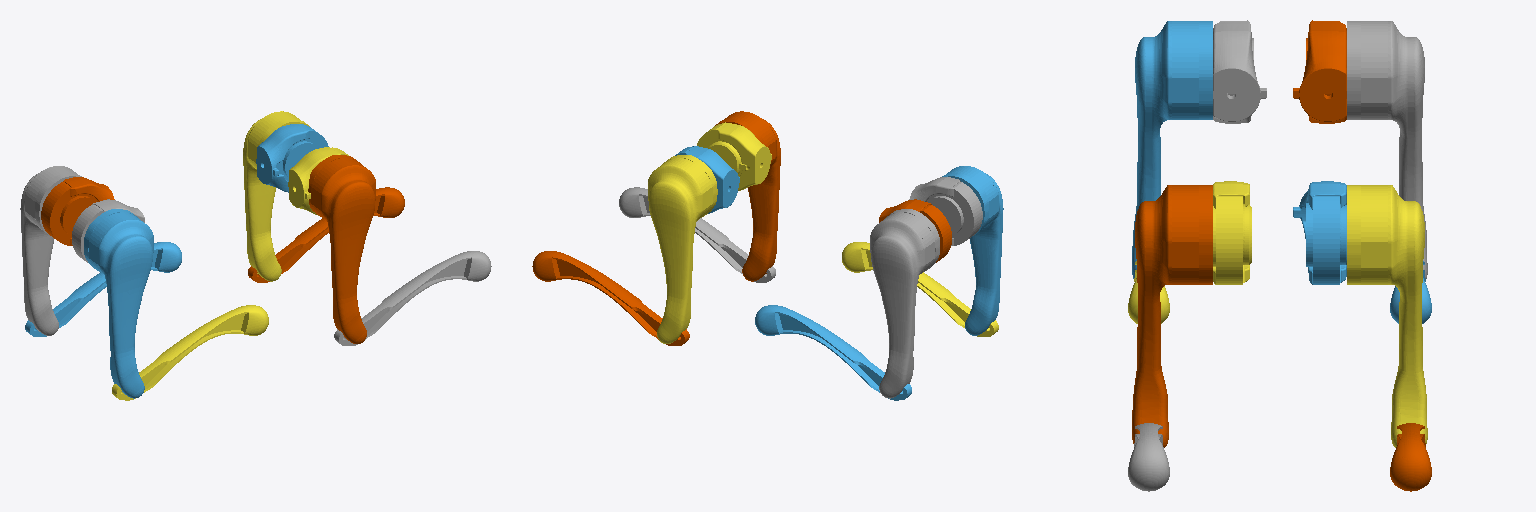
The robot description file, URDF, robot "converted_robot":
<?xml version="1.0" ?>
<robot name="converted_robot">
   <!--generated with mjcf_urdf_simple_converter (https://github.com/Yasu31/mjcf_urdf_simple_converter)-->
   <link name="world">
      <inertial>
         <origin xyz="0.0 0.0 0.0" rpy="0.0 0.0 0.0"/>
         <mass value="0.0"/>
         <inertia ixx="0.0" iyy="0.0" izz="0.0" ixy="0" ixz="0" iyz="0"/>
      </inertial>
   </link>
   <link name="trunk">
      <inertial>
         <origin xyz="0.0223 0.002 -0.0005" rpy="-0.7157650668950082 -1.563674082688072 -2.4208388005488306"/>
         <mass value="5.204"/>
         <inertia ixx="0.0716565" iyy="0.0630105" izz="0.0168101" ixy="0" ixz="0" iyz="0"/>
      </inertial>
      <visual name="trunk">
         <origin xyz="0.06456613160123967 -1.789318564245306e-07 0.0008886185725857437" rpy="3.63527257341012e-06 -1.5565590929761923 -3.1415926535897896"/>
         <geometry>
            <mesh filename="meshes/converted_trunk_333333ff.obj"/>
         </geometry>
      </visual>
   </link>
   <link name="joint_0_jointbody">
      <inertial>
         <origin xyz="0.0 0.0 0.0" rpy="0.0 0.0 0.0"/>
         <mass value="0.001"/>
         <inertia ixx="1e-09" iyy="1e-09" izz="1e-09" ixy="0" ixz="0" iyz="0"/>
      </inertial>
   </link>
   <joint type="fixed" name="joint_0">
      <parent link="world"/>
      <child link="joint_0_jointbody"/>
      <origin xyz="0.0 0.0 0.445" rpy="0.0 0.0 0.0"/>
   </joint>
   <joint type="fixed" name="joint_0_offset">
      <parent link="joint_0_jointbody"/>
      <child link="trunk"/>
      <origin xyz="-0.0 -0.0 -0.0" rpy="0.0 0.0 0.0"/>
   </joint>
   <link name="FR_hip">
      <inertial>
         <origin xyz="-0.0049166 0.00762615 -8.865e-05" rpy="1.5896406315651703 0.005719851876219595 1.527252657950546"/>
         <mass value="0.68"/>
         <inertia ixx="0.000734064" iyy="0.000468438" izz="0.000398719" ixy="0" ixz="0" iyz="0"/>
      </inertial>
      <visual name="hip">
         <origin xyz="-0.012875065044530915 -0.0017777801861647605 -1.9602939267989975e-07" rpy="9.425661877782154e-05 6.971960134993793e-06 1.5793713384552697"/>
         <geometry>
            <mesh filename="meshes/converted_hip_333333ff.obj"/>
         </geometry>
      </visual>
   </link>
   <link name="FR_hip_joint_jointbody">
      <inertial>
         <origin xyz="0.0 0.0 0.0" rpy="0.0 0.0 0.0"/>
         <mass value="0.001"/>
         <inertia ixx="1e-09" iyy="1e-09" izz="1e-09" ixy="0" ixz="0" iyz="0"/>
      </inertial>
   </link>
   <joint type="revolute" name="FR_hip_joint">
      <parent link="trunk"/>
      <child link="FR_hip_joint_jointbody"/>
      <origin xyz="0.1881 -0.04675 0.0" rpy="0.0 0.0 0.0"/>
      <axis xyz="1.0 0.0 0.0"/>
      <limit lower="-0.863" upper="0.863" effort="100" velocity="100"/>
   </joint>
   <joint type="fixed" name="FR_hip_joint_offset">
      <parent link="FR_hip_joint_jointbody"/>
      <child link="FR_hip"/>
      <origin xyz="-0.0 -0.0 -0.0" rpy="0.0 0.0 0.0"/>
   </joint>
   <link name="FR_thigh">
      <inertial>
         <origin xyz="-0.00304722 0.019315 -0.0305004" rpy="0.08218670176332254 0.14265758648192328 1.7200479717891826"/>
         <mass value="1.009"/>
         <inertia ixx="0.00478717" iyy="0.00460903" izz="0.000709268" ixy="0" ixz="0" iyz="0"/>
      </inertial>
      <visual name="thigh_mirror">
         <origin xyz="-0.004290462154240981 0.02209062984345433 -0.04642721992388556" rpy="0.11965076294825028 0.15897046112923485 1.92483276809982"/>
         <geometry>
            <mesh filename="meshes/converted_thigh_mirror_333333ff.obj"/>
         </geometry>
      </visual>
   </link>
   <link name="FR_thigh_joint_jointbody">
      <inertial>
         <origin xyz="0.0 0.0 0.0" rpy="0.0 0.0 0.0"/>
         <mass value="0.001"/>
         <inertia ixx="1e-09" iyy="1e-09" izz="1e-09" ixy="0" ixz="0" iyz="0"/>
      </inertial>
   </link>
   <joint type="revolute" name="FR_thigh_joint">
      <parent link="FR_hip"/>
      <child link="FR_thigh_joint_jointbody"/>
      <origin xyz="0.0 -0.08 0.0" rpy="0.0 0.0 0.0"/>
      <axis xyz="0.0 1.0 0.0"/>
      <limit lower="-0.686" upper="4.501" effort="100" velocity="100"/>
   </joint>
   <joint type="fixed" name="FR_thigh_joint_offset">
      <parent link="FR_thigh_joint_jointbody"/>
      <child link="FR_thigh"/>
      <origin xyz="-0.0 -0.0 -0.0" rpy="0.0 0.0 0.0"/>
   </joint>
   <link name="FR_calf">
      <inertial>
         <origin xyz="0.00429862 0.000976676 -0.146197" rpy="0.012328893507235983 0.0019001123612731874 1.6151424907177612"/>
         <mass value="0.195862"/>
         <inertia ixx="0.00149767" iyy="0.00148468" izz="3.58427e-05" ixy="0" ixz="0" iyz="0"/>
      </inertial>
      <visual name="calf">
         <origin xyz="0.006786841015610575 -9.169538124848121e-07 -0.12472491620032147" rpy="-0.012432181440358736 -1.3824013436192217e-05 1.5707964986663947"/>
         <geometry>
            <mesh filename="meshes/converted_calf_333333ff.obj"/>
         </geometry>
      </visual>
   </link>
   <link name="FR_calf_joint_jointbody">
      <inertial>
         <origin xyz="0.0 0.0 0.0" rpy="0.0 0.0 0.0"/>
         <mass value="0.001"/>
         <inertia ixx="1e-09" iyy="1e-09" izz="1e-09" ixy="0" ixz="0" iyz="0"/>
      </inertial>
   </link>
   <joint type="revolute" name="FR_calf_joint">
      <parent link="FR_thigh"/>
      <child link="FR_calf_joint_jointbody"/>
      <origin xyz="0.0 0.0 -0.213" rpy="0.0 0.0 0.0"/>
      <axis xyz="0.0 1.0 0.0"/>
      <limit lower="-2.818" upper="-0.888" effort="100" velocity="100"/>
   </joint>
   <joint type="fixed" name="FR_calf_joint_offset">
      <parent link="FR_calf_joint_jointbody"/>
      <child link="FR_calf"/>
      <origin xyz="-0.0 -0.0 -0.0" rpy="0.0 0.0 0.0"/>
   </joint>
   <link name="FL_hip">
      <inertial>
         <origin xyz="-0.0049166 -0.00762615 -8.865e-05" rpy="1.5896406315651703 -0.005719851876219373 1.614339995639247"/>
         <mass value="0.68"/>
         <inertia ixx="0.000734064" iyy="0.000468438" izz="0.000398719" ixy="0" ixz="0" iyz="0"/>
      </inertial>
      <visual name="hip">
         <origin xyz="-0.012875065044530915 -0.0017777801861647605 -1.9602939267989975e-07" rpy="9.425661877782154e-05 6.971960134993793e-06 1.5793713384552697"/>
         <geometry>
            <mesh filename="meshes/converted_hip_333333ff.obj"/>
         </geometry>
      </visual>
   </link>
   <link name="FL_hip_joint_jointbody">
      <inertial>
         <origin xyz="0.0 0.0 0.0" rpy="0.0 0.0 0.0"/>
         <mass value="0.001"/>
         <inertia ixx="1e-09" iyy="1e-09" izz="1e-09" ixy="0" ixz="0" iyz="0"/>
      </inertial>
   </link>
   <joint type="revolute" name="FL_hip_joint">
      <parent link="trunk"/>
      <child link="FL_hip_joint_jointbody"/>
      <origin xyz="0.1881 0.04675 0.0" rpy="0.0 0.0 0.0"/>
      <axis xyz="1.0 0.0 0.0"/>
      <limit lower="-0.863" upper="0.863" effort="100" velocity="100"/>
   </joint>
   <joint type="fixed" name="FL_hip_joint_offset">
      <parent link="FL_hip_joint_jointbody"/>
      <child link="FL_hip"/>
      <origin xyz="-0.0 -0.0 -0.0" rpy="0.0 0.0 0.0"/>
   </joint>
   <link name="FL_thigh">
      <inertial>
         <origin xyz="-0.00304722 -0.019315 -0.0305004" rpy="0.08218670176332254 -0.14265758648192306 1.4215446818006106"/>
         <mass value="1.009"/>
         <inertia ixx="0.00478717" iyy="0.00460903" izz="0.000709268" ixy="0" ixz="0" iyz="0"/>
      </inertial>
      <visual name="thigh">
         <origin xyz="-0.0035736846836778753 -0.023611648739198243 -0.041030376815283584" rpy="0.10192728856062827 -0.1520058544633227 1.2544775621751492"/>
         <geometry>
            <mesh filename="meshes/converted_thigh_333333ff.obj"/>
         </geometry>
      </visual>
   </link>
   <link name="FL_thigh_joint_jointbody">
      <inertial>
         <origin xyz="0.0 0.0 0.0" rpy="0.0 0.0 0.0"/>
         <mass value="0.001"/>
         <inertia ixx="1e-09" iyy="1e-09" izz="1e-09" ixy="0" ixz="0" iyz="0"/>
      </inertial>
   </link>
   <joint type="revolute" name="FL_thigh_joint">
      <parent link="FL_hip"/>
      <child link="FL_thigh_joint_jointbody"/>
      <origin xyz="0.0 0.08 0.0" rpy="0.0 0.0 0.0"/>
      <axis xyz="0.0 1.0 0.0"/>
      <limit lower="-0.686" upper="4.501" effort="100" velocity="100"/>
   </joint>
   <joint type="fixed" name="FL_thigh_joint_offset">
      <parent link="FL_thigh_joint_jointbody"/>
      <child link="FL_thigh"/>
      <origin xyz="-0.0 -0.0 -0.0" rpy="0.0 0.0 0.0"/>
   </joint>
   <link name="FL_calf">
      <inertial>
         <origin xyz="0.00429862 0.000976676 -0.146197" rpy="0.012328893507235983 0.0019001123612731874 1.6151424907177612"/>
         <mass value="0.195862"/>
         <inertia ixx="0.00149767" iyy="0.00148468" izz="3.58427e-05" ixy="0" ixz="0" iyz="0"/>
      </inertial>
      <visual name="calf">
         <origin xyz="0.006786841015610575 -9.169538124848121e-07 -0.12472491620032147" rpy="-0.012432181440358736 -1.3824013436192217e-05 1.5707964986663947"/>
         <geometry>
            <mesh filename="meshes/converted_calf_333333ff.obj"/>
         </geometry>
      </visual>
   </link>
   <link name="FL_calf_joint_jointbody">
      <inertial>
         <origin xyz="0.0 0.0 0.0" rpy="0.0 0.0 0.0"/>
         <mass value="0.001"/>
         <inertia ixx="1e-09" iyy="1e-09" izz="1e-09" ixy="0" ixz="0" iyz="0"/>
      </inertial>
   </link>
   <joint type="revolute" name="FL_calf_joint">
      <parent link="FL_thigh"/>
      <child link="FL_calf_joint_jointbody"/>
      <origin xyz="0.0 0.0 -0.213" rpy="0.0 0.0 0.0"/>
      <axis xyz="0.0 1.0 0.0"/>
      <limit lower="-2.818" upper="-0.888" effort="100" velocity="100"/>
   </joint>
   <joint type="fixed" name="FL_calf_joint_offset">
      <parent link="FL_calf_joint_jointbody"/>
      <child link="FL_calf"/>
      <origin xyz="-0.0 -0.0 -0.0" rpy="0.0 0.0 0.0"/>
   </joint>
   <link name="RR_hip">
      <inertial>
         <origin xyz="0.0049166 0.00762615 -8.865e-05" rpy="1.5519520220246228 0.005719851876219817 1.614339995639247"/>
         <mass value="0.68"/>
         <inertia ixx="0.000734064" iyy="0.000468438" izz="0.000398719" ixy="0" ixz="0" iyz="0"/>
      </inertial>
      <visual name="hip">
         <origin xyz="0.012875065044530915 0.0017777801861647605 -1.9602939267989975e-07" rpy="9.425661877782154e-05 6.971960134993793e-06 -1.5622213151345234"/>
         <geometry>
            <mesh filename="meshes/converted_hip_333333ff.obj"/>
         </geometry>
      </visual>
   </link>
   <link name="RR_hip_joint_jointbody">
      <inertial>
         <origin xyz="0.0 0.0 0.0" rpy="0.0 0.0 0.0"/>
         <mass value="0.001"/>
         <inertia ixx="1e-09" iyy="1e-09" izz="1e-09" ixy="0" ixz="0" iyz="0"/>
      </inertial>
   </link>
   <joint type="revolute" name="RR_hip_joint">
      <parent link="trunk"/>
      <child link="RR_hip_joint_jointbody"/>
      <origin xyz="-0.1881 -0.04675 0.0" rpy="0.0 0.0 0.0"/>
      <axis xyz="1.0 0.0 0.0"/>
      <limit lower="-0.863" upper="0.863" effort="100" velocity="100"/>
   </joint>
   <joint type="fixed" name="RR_hip_joint_offset">
      <parent link="RR_hip_joint_jointbody"/>
      <child link="RR_hip"/>
      <origin xyz="-0.0 -0.0 -0.0" rpy="0.0 0.0 0.0"/>
   </joint>
   <link name="RR_thigh">
      <inertial>
         <origin xyz="-0.00304722 0.019315 -0.0305004" rpy="0.08218670176332254 0.14265758648192328 1.7200479717891826"/>
         <mass value="1.009"/>
         <inertia ixx="0.00478717" iyy="0.00460903" izz="0.000709268" ixy="0" ixz="0" iyz="0"/>
      </inertial>
      <visual name="thigh_mirror">
         <origin xyz="-0.004290462154240981 0.02209062984345433 -0.04642721992388556" rpy="0.11965076294825028 0.15897046112923485 1.92483276809982"/>
         <geometry>
            <mesh filename="meshes/converted_thigh_mirror_333333ff.obj"/>
         </geometry>
      </visual>
   </link>
   <link name="RR_thigh_joint_jointbody">
      <inertial>
         <origin xyz="0.0 0.0 0.0" rpy="0.0 0.0 0.0"/>
         <mass value="0.001"/>
         <inertia ixx="1e-09" iyy="1e-09" izz="1e-09" ixy="0" ixz="0" iyz="0"/>
      </inertial>
   </link>
   <joint type="revolute" name="RR_thigh_joint">
      <parent link="RR_hip"/>
      <child link="RR_thigh_joint_jointbody"/>
      <origin xyz="0.0 -0.08 0.0" rpy="0.0 0.0 0.0"/>
      <axis xyz="0.0 1.0 0.0"/>
      <limit lower="-0.686" upper="4.501" effort="100" velocity="100"/>
   </joint>
   <joint type="fixed" name="RR_thigh_joint_offset">
      <parent link="RR_thigh_joint_jointbody"/>
      <child link="RR_thigh"/>
      <origin xyz="-0.0 -0.0 -0.0" rpy="0.0 0.0 0.0"/>
   </joint>
   <link name="RR_calf">
      <inertial>
         <origin xyz="0.00429862 0.000976676 -0.146197" rpy="0.012328893507235983 0.0019001123612731874 1.6151424907177612"/>
         <mass value="0.195862"/>
         <inertia ixx="0.00149767" iyy="0.00148468" izz="3.58427e-05" ixy="0" ixz="0" iyz="0"/>
      </inertial>
      <visual name="calf">
         <origin xyz="0.006786841015610575 -9.169538124848121e-07 -0.12472491620032147" rpy="-0.012432181440358736 -1.3824013436192217e-05 1.5707964986663947"/>
         <geometry>
            <mesh filename="meshes/converted_calf_333333ff.obj"/>
         </geometry>
      </visual>
   </link>
   <link name="RR_calf_joint_jointbody">
      <inertial>
         <origin xyz="0.0 0.0 0.0" rpy="0.0 0.0 0.0"/>
         <mass value="0.001"/>
         <inertia ixx="1e-09" iyy="1e-09" izz="1e-09" ixy="0" ixz="0" iyz="0"/>
      </inertial>
   </link>
   <joint type="revolute" name="RR_calf_joint">
      <parent link="RR_thigh"/>
      <child link="RR_calf_joint_jointbody"/>
      <origin xyz="0.0 0.0 -0.213" rpy="0.0 0.0 0.0"/>
      <axis xyz="0.0 1.0 0.0"/>
      <limit lower="-2.818" upper="-0.888" effort="100" velocity="100"/>
   </joint>
   <joint type="fixed" name="RR_calf_joint_offset">
      <parent link="RR_calf_joint_jointbody"/>
      <child link="RR_calf"/>
      <origin xyz="-0.0 -0.0 -0.0" rpy="0.0 0.0 0.0"/>
   </joint>
   <link name="RL_hip">
      <inertial>
         <origin xyz="0.0049166 -0.00762615 -8.865e-05" rpy="1.551952022024623 -0.005719851876219373 1.5272526579505463"/>
         <mass value="0.68"/>
         <inertia ixx="0.000734064" iyy="0.000468438" izz="0.000398719" ixy="0" ixz="0" iyz="0"/>
      </inertial>
      <visual name="hip">
         <origin xyz="0.012875065044530915 -0.0017777801861647605 1.9602939267989975e-07" rpy="-3.141498396971015 -6.971960134993793e-06 1.5622213151345234"/>
         <geometry>
            <mesh filename="meshes/converted_hip_333333ff.obj"/>
         </geometry>
      </visual>
   </link>
   <link name="RL_hip_joint_jointbody">
      <inertial>
         <origin xyz="0.0 0.0 0.0" rpy="0.0 0.0 0.0"/>
         <mass value="0.001"/>
         <inertia ixx="1e-09" iyy="1e-09" izz="1e-09" ixy="0" ixz="0" iyz="0"/>
      </inertial>
   </link>
   <joint type="revolute" name="RL_hip_joint">
      <parent link="trunk"/>
      <child link="RL_hip_joint_jointbody"/>
      <origin xyz="-0.1881 0.04675 0.0" rpy="0.0 0.0 0.0"/>
      <axis xyz="1.0 0.0 0.0"/>
      <limit lower="-0.863" upper="0.863" effort="100" velocity="100"/>
   </joint>
   <joint type="fixed" name="RL_hip_joint_offset">
      <parent link="RL_hip_joint_jointbody"/>
      <child link="RL_hip"/>
      <origin xyz="-0.0 -0.0 -0.0" rpy="0.0 0.0 0.0"/>
   </joint>
   <link name="RL_thigh">
      <inertial>
         <origin xyz="-0.00304722 -0.019315 -0.0305004" rpy="0.08218670176332254 -0.14265758648192306 1.4215446818006106"/>
         <mass value="1.009"/>
         <inertia ixx="0.00478717" iyy="0.00460903" izz="0.000709268" ixy="0" ixz="0" iyz="0"/>
      </inertial>
      <visual name="thigh">
         <origin xyz="-0.0035736846836778753 -0.023611648739198243 -0.041030376815283584" rpy="0.10192728856062827 -0.1520058544633227 1.2544775621751492"/>
         <geometry>
            <mesh filename="meshes/converted_thigh_333333ff.obj"/>
         </geometry>
      </visual>
   </link>
   <link name="RL_thigh_joint_jointbody">
      <inertial>
         <origin xyz="0.0 0.0 0.0" rpy="0.0 0.0 0.0"/>
         <mass value="0.001"/>
         <inertia ixx="1e-09" iyy="1e-09" izz="1e-09" ixy="0" ixz="0" iyz="0"/>
      </inertial>
   </link>
   <joint type="revolute" name="RL_thigh_joint">
      <parent link="RL_hip"/>
      <child link="RL_thigh_joint_jointbody"/>
      <origin xyz="0.0 0.08 0.0" rpy="0.0 0.0 0.0"/>
      <axis xyz="0.0 1.0 0.0"/>
      <limit lower="-0.686" upper="4.501" effort="100" velocity="100"/>
   </joint>
   <joint type="fixed" name="RL_thigh_joint_offset">
      <parent link="RL_thigh_joint_jointbody"/>
      <child link="RL_thigh"/>
      <origin xyz="-0.0 -0.0 -0.0" rpy="0.0 0.0 0.0"/>
   </joint>
   <link name="RL_calf">
      <inertial>
         <origin xyz="0.00429862 0.000976676 -0.146197" rpy="0.012328893507235983 0.0019001123612731874 1.6151424907177612"/>
         <mass value="0.195862"/>
         <inertia ixx="0.00149767" iyy="0.00148468" izz="3.58427e-05" ixy="0" ixz="0" iyz="0"/>
      </inertial>
      <visual name="calf">
         <origin xyz="0.006786841015610575 -9.169538124848121e-07 -0.12472491620032147" rpy="-0.012432181440358736 -1.3824013436192217e-05 1.5707964986663947"/>
         <geometry>
            <mesh filename="meshes/converted_calf_333333ff.obj"/>
         </geometry>
      </visual>
   </link>
   <link name="RL_calf_joint_jointbody">
      <inertial>
         <origin xyz="0.0 0.0 0.0" rpy="0.0 0.0 0.0"/>
         <mass value="0.001"/>
         <inertia ixx="1e-09" iyy="1e-09" izz="1e-09" ixy="0" ixz="0" iyz="0"/>
      </inertial>
   </link>
   <joint type="revolute" name="RL_calf_joint">
      <parent link="RL_thigh"/>
      <child link="RL_calf_joint_jointbody"/>
      <origin xyz="0.0 0.0 -0.213" rpy="0.0 0.0 0.0"/>
      <axis xyz="0.0 1.0 0.0"/>
      <limit lower="-2.818" upper="-0.888" effort="100" velocity="100"/>
   </joint>
   <joint type="fixed" name="RL_calf_joint_offset">
      <parent link="RL_calf_joint_jointbody"/>
      <child link="RL_calf"/>
      <origin xyz="-0.0 -0.0 -0.0" rpy="0.0 0.0 0.0"/>
   </joint>
</robot>

--- Facts derived from the render (not from the file) ---
Views: 3 orthographic renders of the robot side by side, from view 1: azimuth 30°, elevation 25°; view 2: azimuth 150°, elevation 25°; view 3: azimuth 270°, elevation 25°.
Robot: converted_robot — 27 links, 26 joints (12 revolute, 14 fixed); root link world; default pose: all joints at 0 but 4 set to mid-range because 0 is outside their limits (FR_calf_joint = -1.85, FL_calf_joint = -1.85, RR_calf_joint = -1.85, RL_calf_joint = -1.85).
Visible links, largest first — view 1: RR_thigh, FR_thigh, RL_thigh, FL_thigh, RR_calf, FR_calf, FL_hip, RL_hip, FL_calf, RL_calf, FR_hip, RR_hip; view 2: RL_thigh, FL_thigh, RR_thigh, FR_thigh, RL_calf, FL_calf, FR_hip, RR_hip, FR_calf, RR_calf, FL_hip, RL_hip; view 3: FR_thigh, FL_thigh, RR_thigh, RL_thigh, FL_hip, RR_hip, RL_hip, FR_hip, FR_calf, FL_calf, RR_calf, RL_calf.
Boxes of the visible links, x1,y1,x2,y2 form: RR_thigh: (84,209,153,398); FR_thigh: (308,155,375,343); RL_thigh: (20,166,81,335); FL_thigh: (243,111,309,281); RR_calf: (112,305,268,400); FR_calf: (334,251,491,345); FL_hip: (256,124,328,192); RL_hip: (41,177,114,245); FL_calf: (248,187,404,282); RL_calf: (25,242,181,336); FR_hip: (288,147,348,215); RR_hip: (72,199,144,262); RL_thigh: (870,209,939,398); FL_thigh: (648,155,717,343); RR_thigh: (942,166,1003,335); FR_thigh: (715,111,780,281); RL_calf: (755,305,911,400); FL_calf: (532,251,689,345); FR_hip: (697,122,771,190); RR_hip: (909,177,982,245); FR_calf: (619,187,775,282); RR_calf: (842,242,998,336); FL_hip: (675,146,739,213); RL_hip: (879,199,951,262); FR_thigh: (1132,185,1212,447); FL_thigh: (1347,185,1427,447); RR_thigh: (1132,21,1212,278); RL_thigh: (1347,21,1427,278); FL_hip: (1293,181,1346,284); RR_hip: (1213,20,1266,123); RL_hip: (1293,20,1346,123); FR_hip: (1213,181,1251,284); FR_calf: (1128,423,1169,491); FL_calf: (1390,423,1431,491); RR_calf: (1128,261,1169,323); RL_calf: (1390,261,1431,323).
Bounding box of the posed robot: 0.6511 × 0.294 × 0.2796 m (x, y, z).
12 mesh visuals loaded from 5 distinct referenced files (4 OBJ); not drawn: 1 (reference not matched to a file when rendering).
